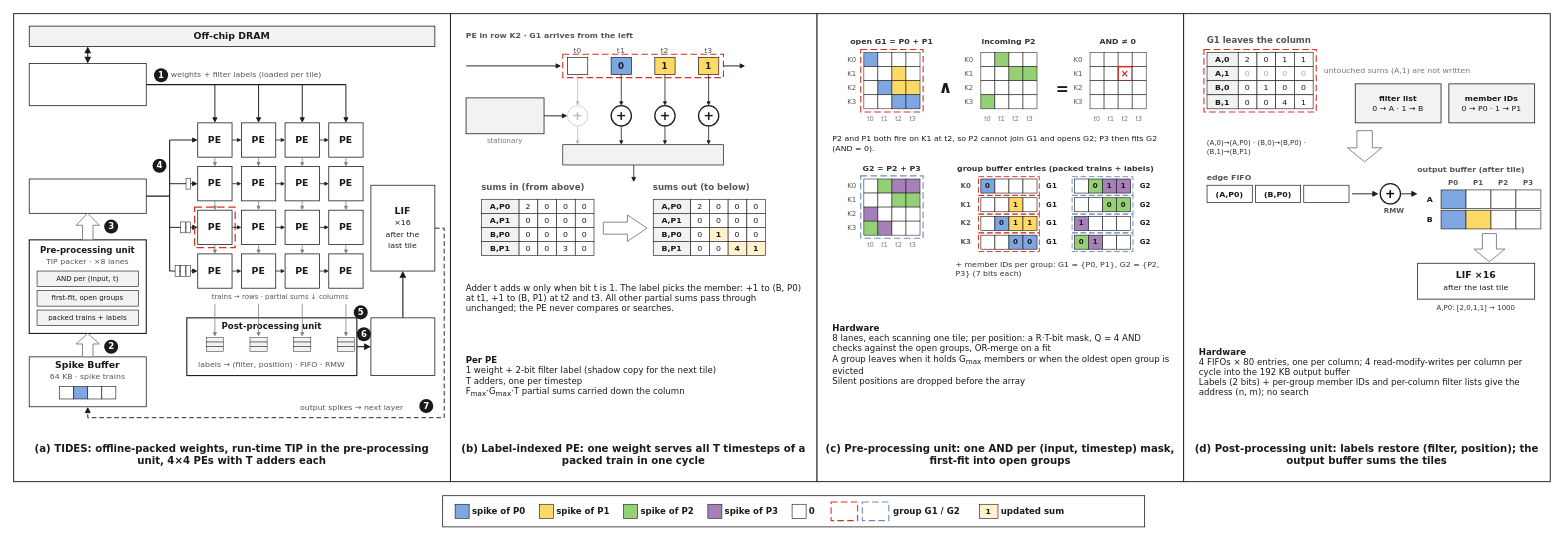
The diagram is 1565 pixels wide and 541 high, and some of its shapes have lost their labels. The centre of each missing label's shape, as x and y in pixels:
(B,P1): the point at 1326,193
Group Buffer 4 KB · packed groups: the point at 87,195
Output Buffer 192 KB: the point at 402,346
select by (filter label, member label): the point at 642,154
w = 1 filter label B: the point at 504,115
Weight Memory packed offline weight | filter label: the point at 87,84
